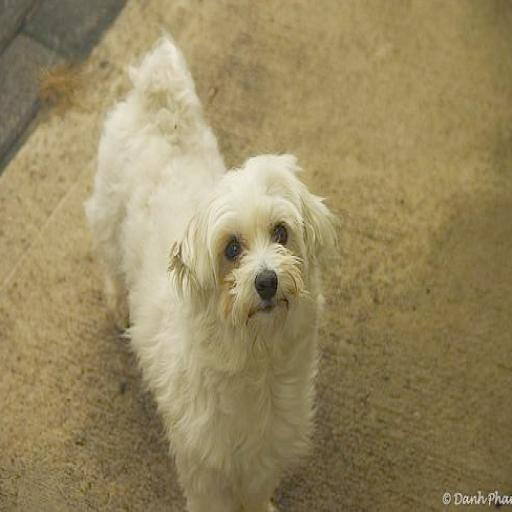dog_face: (191, 150, 325, 342)
